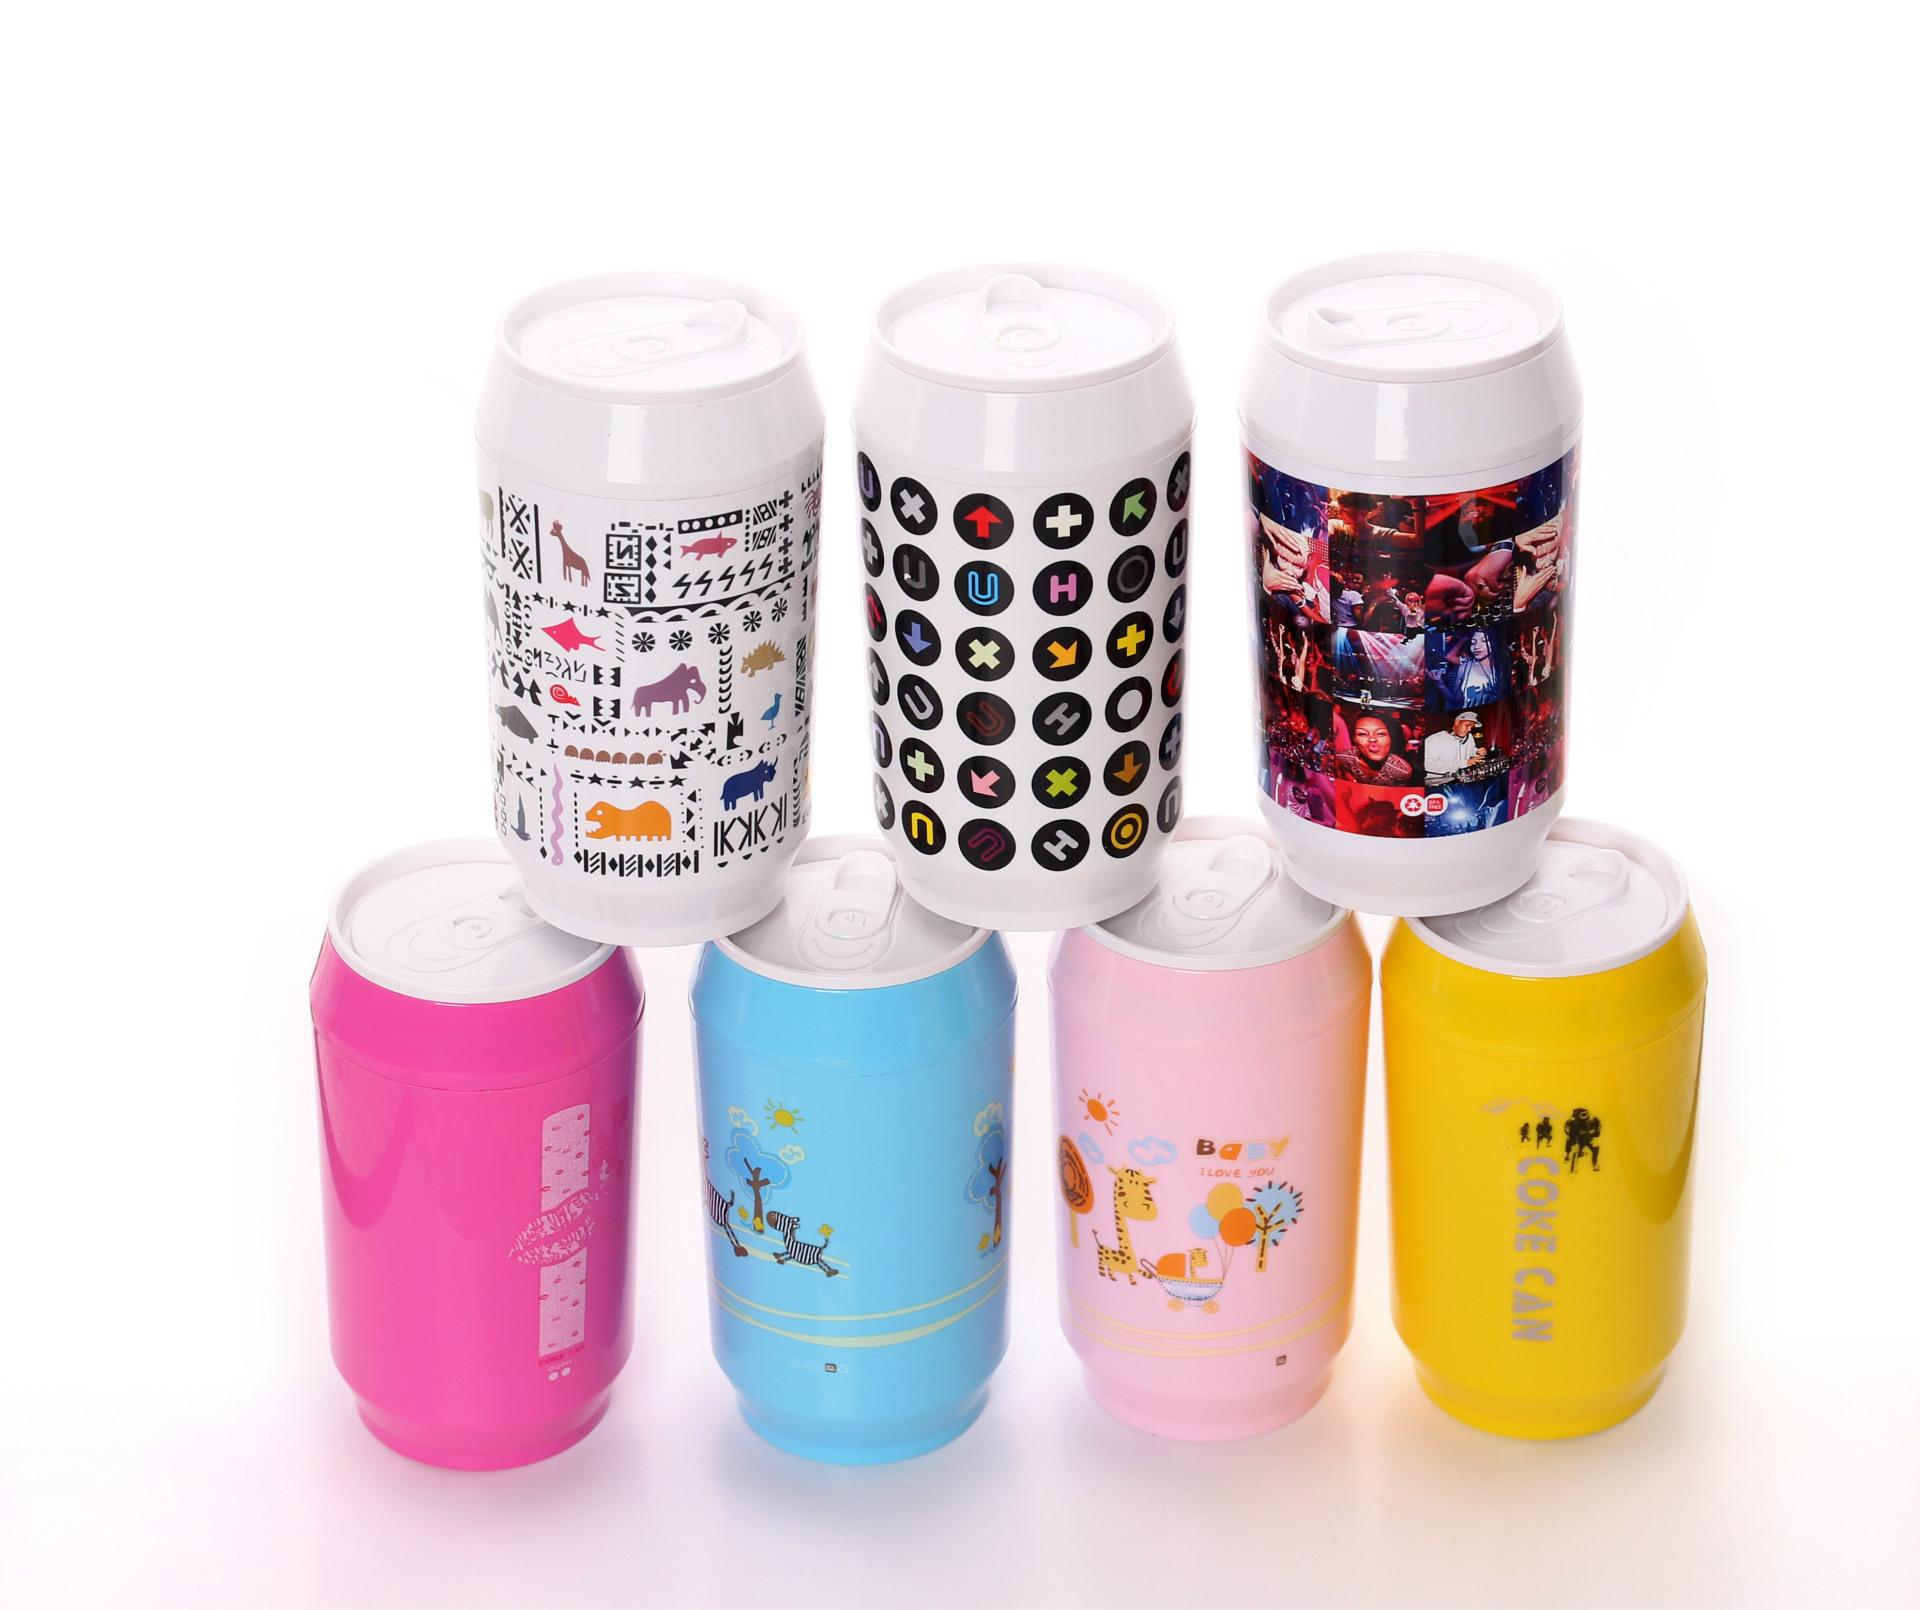metal: (476, 273, 823, 942), (1240, 252, 1581, 914), (853, 267, 1192, 930), (311, 839, 642, 1466), (693, 834, 1014, 1461), (1382, 819, 1704, 1434), (1053, 819, 1371, 1437)
plastic: (1053, 819, 1371, 1437)
